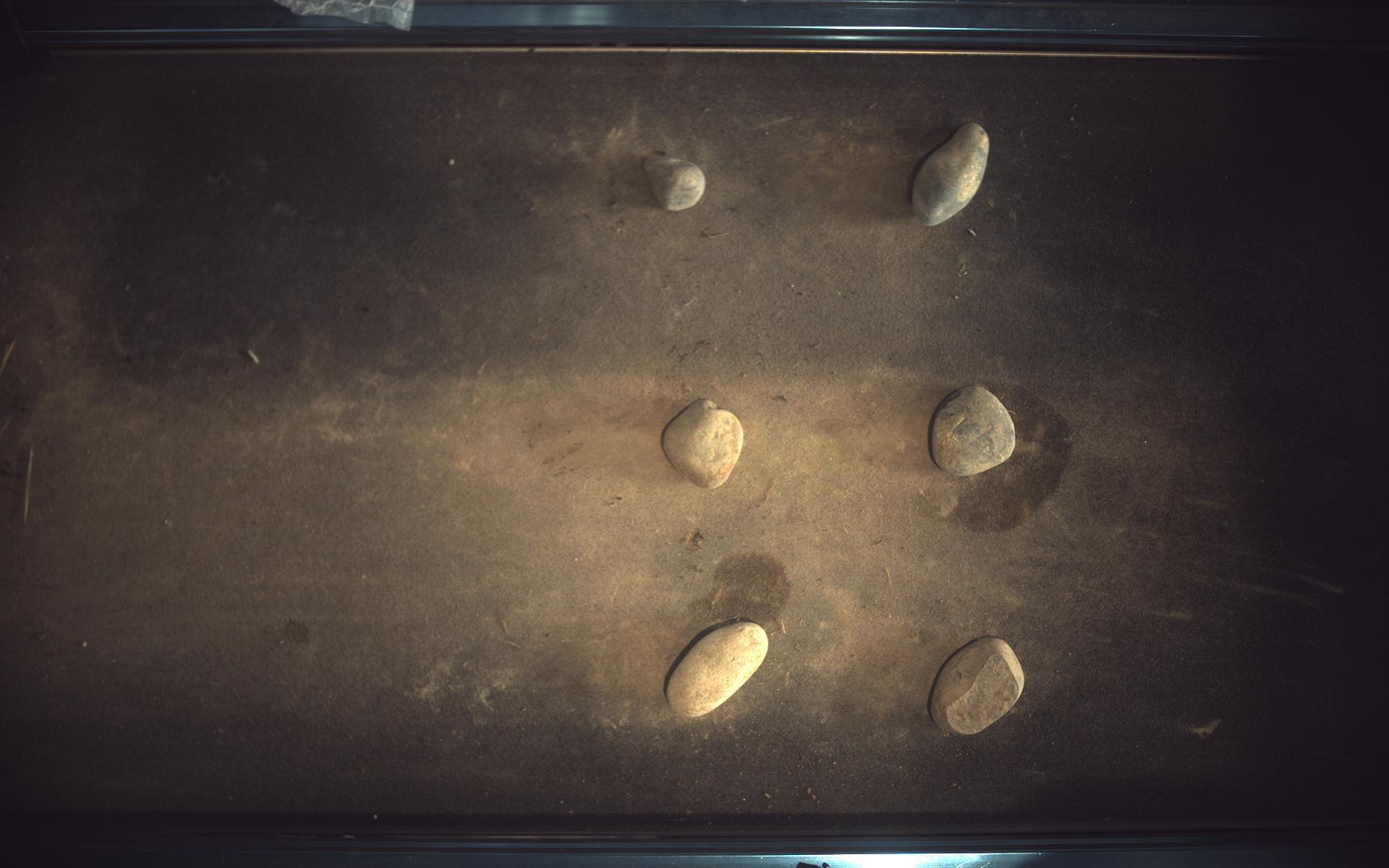stone: (668, 622, 770, 718), (931, 637, 1027, 737), (914, 122, 991, 225), (933, 386, 1017, 477), (663, 399, 744, 489), (644, 153, 706, 210)
